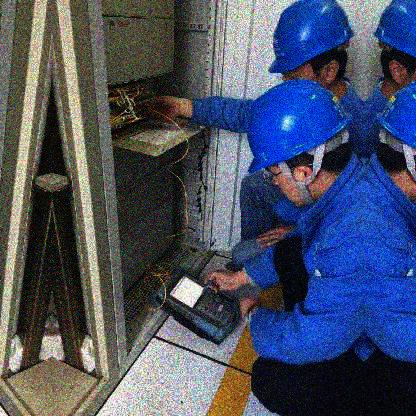helmet: (245, 82, 356, 208), (265, 1, 349, 83), (372, 85, 415, 198), (370, 1, 412, 90)
